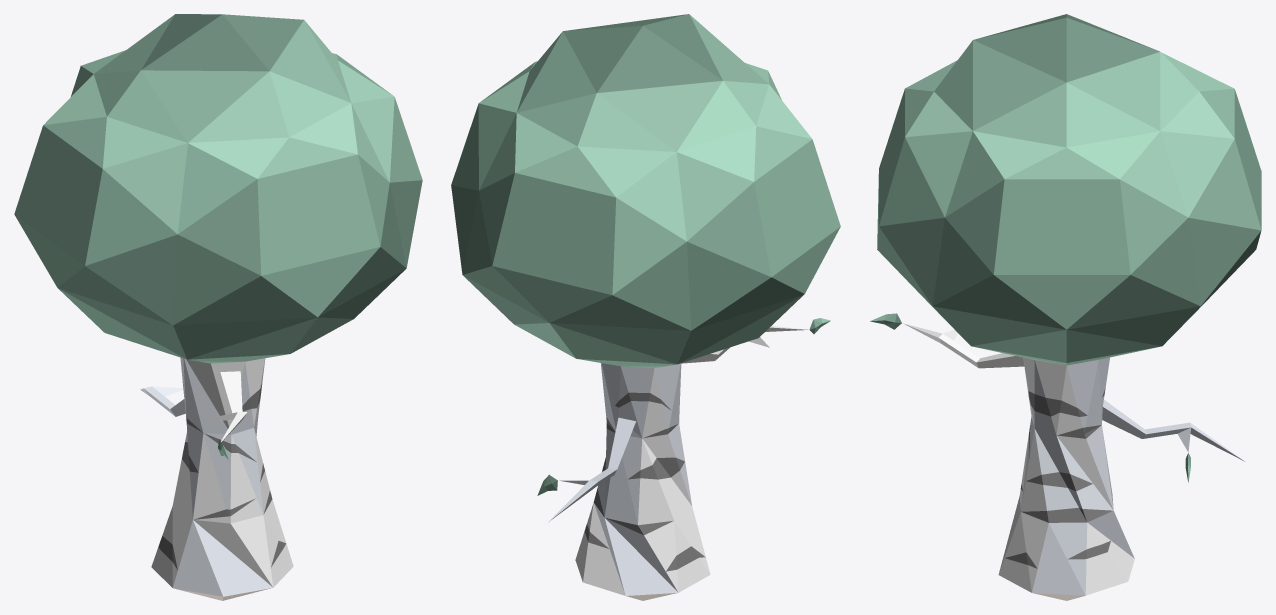
Rendered from TreeBirch.fbx.
3 renders of one model, left to right at view 1: azimuth 30°, elevation 25°; view 2: azimuth 150°, elevation 25°; view 3: azimuth 270°, elevation 25°, orthographic.
Parts seen in each view (by area): view 1: TreeBirch; view 2: TreeBirch; view 3: TreeBirch.
Part boxes in pixels (box(x1,y1,x2,y2)): TreeBirch: box(14, 14, 422, 600); TreeBirch: box(451, 14, 840, 600); TreeBirch: box(870, 14, 1261, 600).
Size of the model in its own units: 3.58 by 6 by 3.65.
